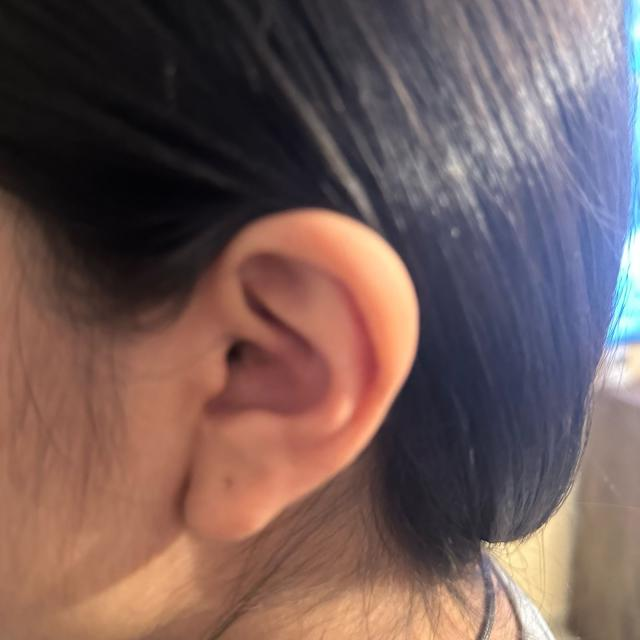ear: (182, 209, 418, 541)
